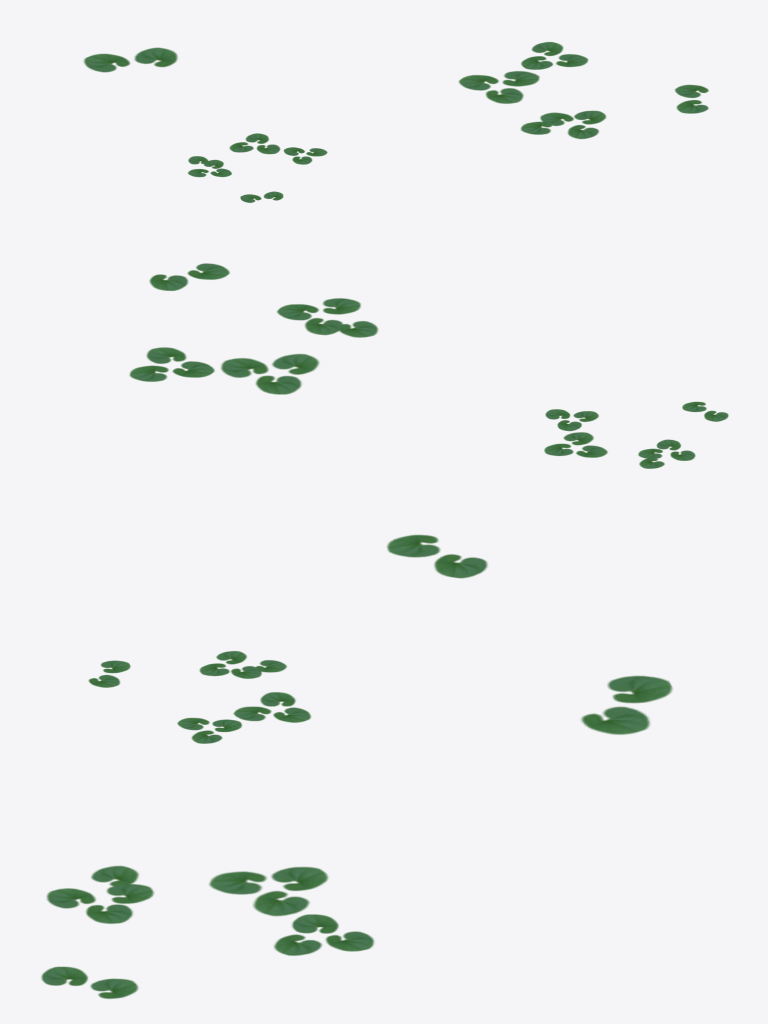
File: waterLily.glb
The picture shows the model from 3 angles, top to bottom: view 1: azimuth 30°, elevation 25°; view 2: azimuth 150°, elevation 25°; view 3: azimuth 270°, elevation 25°; orthographic projection. The views are drawn at different scales.
Visible parts, largest first — view 1: waterlily.png__; view 2: waterlily.png__; view 3: waterlily.png__.
Boxes of the visible parts, x1,y1,x2,y2 form: waterlily.png__: (83,42,708,202); waterlily.png__: (129,263,728,578); waterlily.png__: (41,651,672,998).
Bounding box in the file's own units: 15.57 × 0 × 13.02.
Materials: 1 (1 with a texture image).
